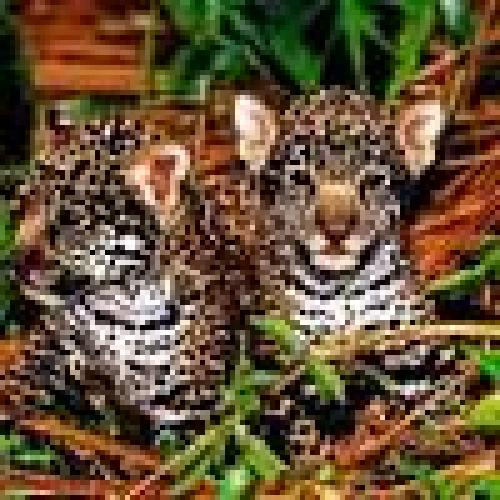jaguar_not-endangered: (237, 92, 442, 417), (13, 124, 228, 422)
